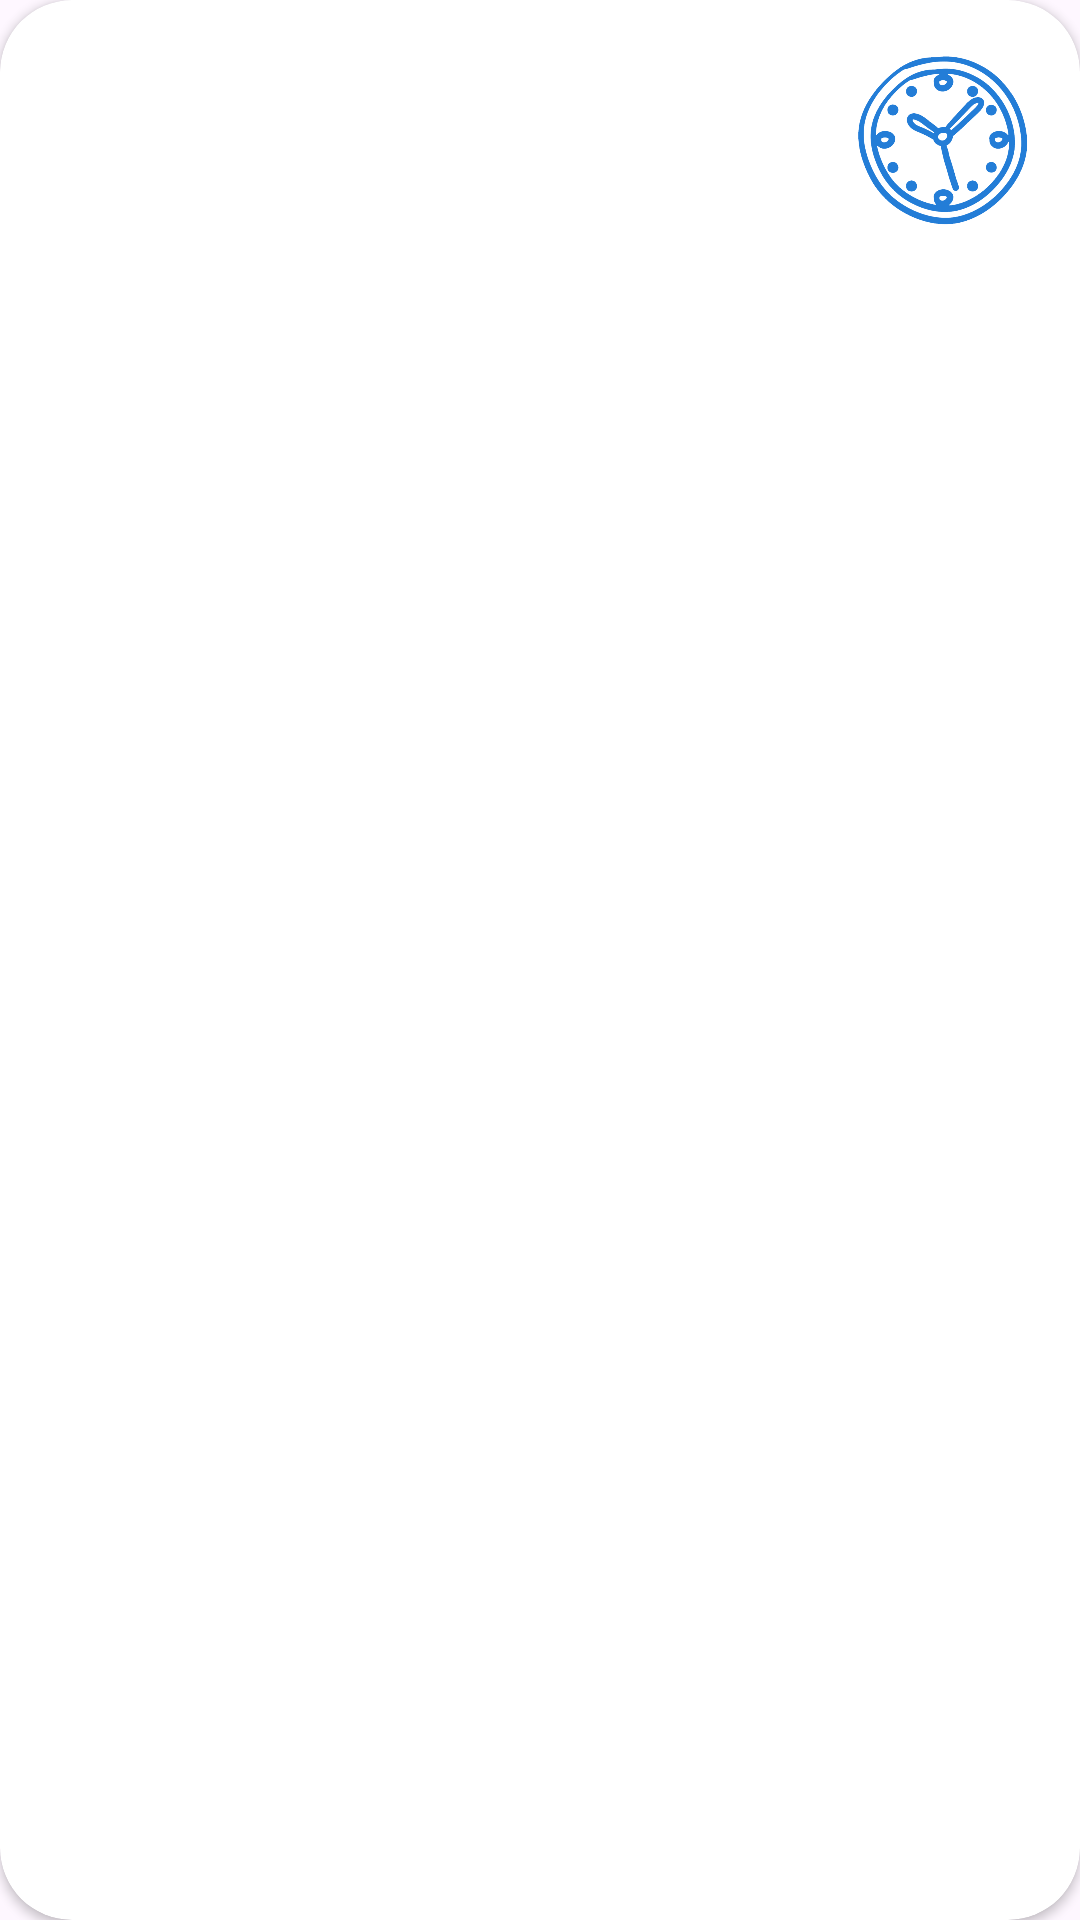

Named icons in this screenshot (1080px x 1920px) and their bounding boxes, bbox(x1, y1, x2, y2):
timer: bbox(858, 56, 1027, 224)
